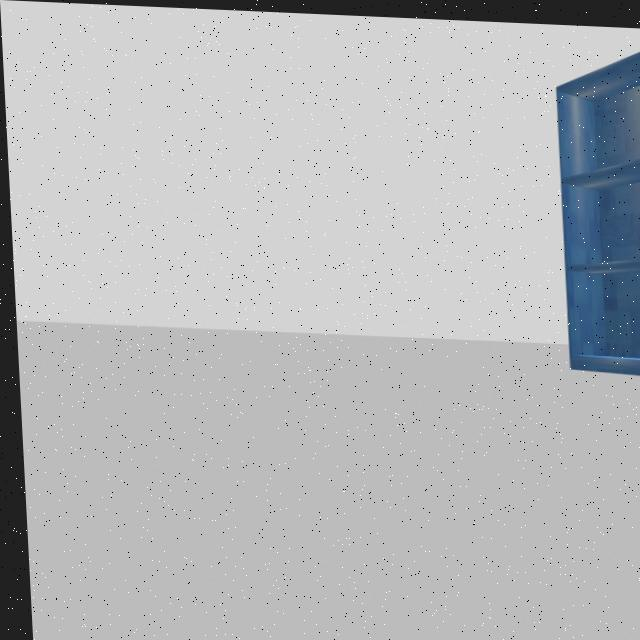shelf: (530, 19, 640, 409)
